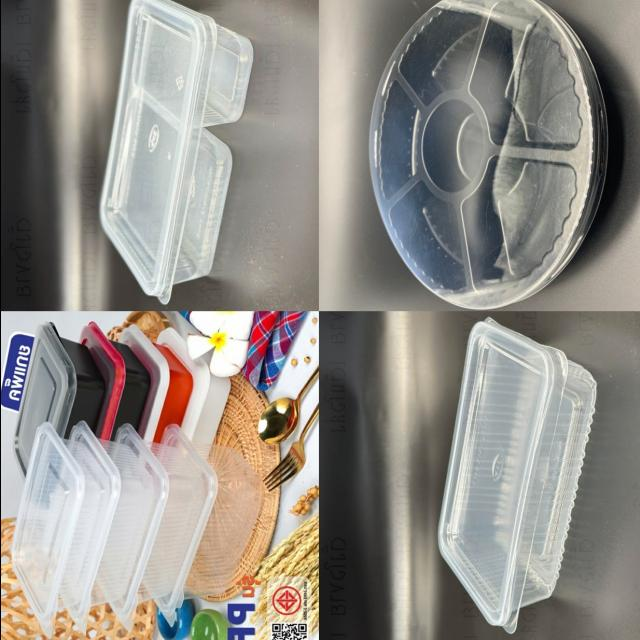plastik: (368, 0, 606, 309), (437, 318, 595, 633), (99, 0, 252, 303), (11, 423, 108, 635), (156, 425, 262, 618), (109, 424, 205, 628), (66, 421, 154, 631), (13, 322, 103, 475), (120, 325, 192, 442), (79, 322, 149, 440)
